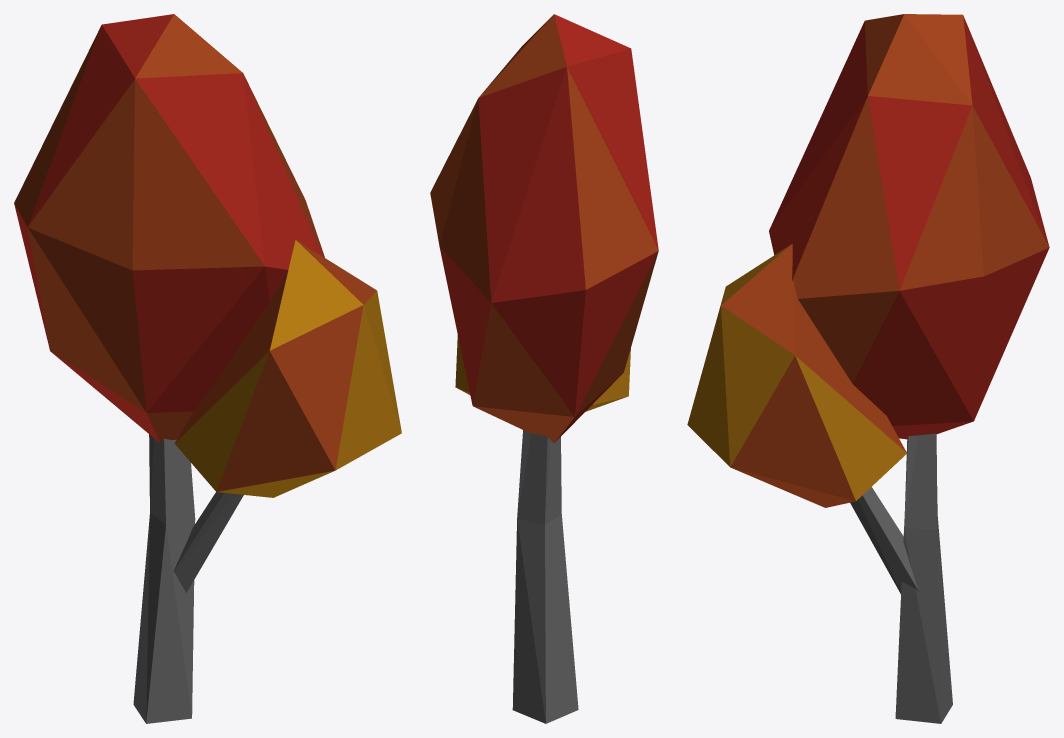
File: Tree1_M2_6_medium.fbx
3 views of the same model, side by side, from view 1: azimuth 30°, elevation 25°; view 2: azimuth 150°, elevation 25°; view 3: azimuth 270°, elevation 25° (orthographic). The views are drawn at different scales.
Parts seen in each view (by area): view 1: Tree1_M2_6_medium; view 2: Tree1_M2_6_medium; view 3: Tree1_M2_6_medium.
Boxes of the visible parts, box(x1,y1,x2,y2) form: Tree1_M2_6_medium: box(14, 14, 401, 723); Tree1_M2_6_medium: box(430, 14, 658, 723); Tree1_M2_6_medium: box(687, 14, 1049, 723).
Size of the model in its own units: 168 by 412 by 193.
